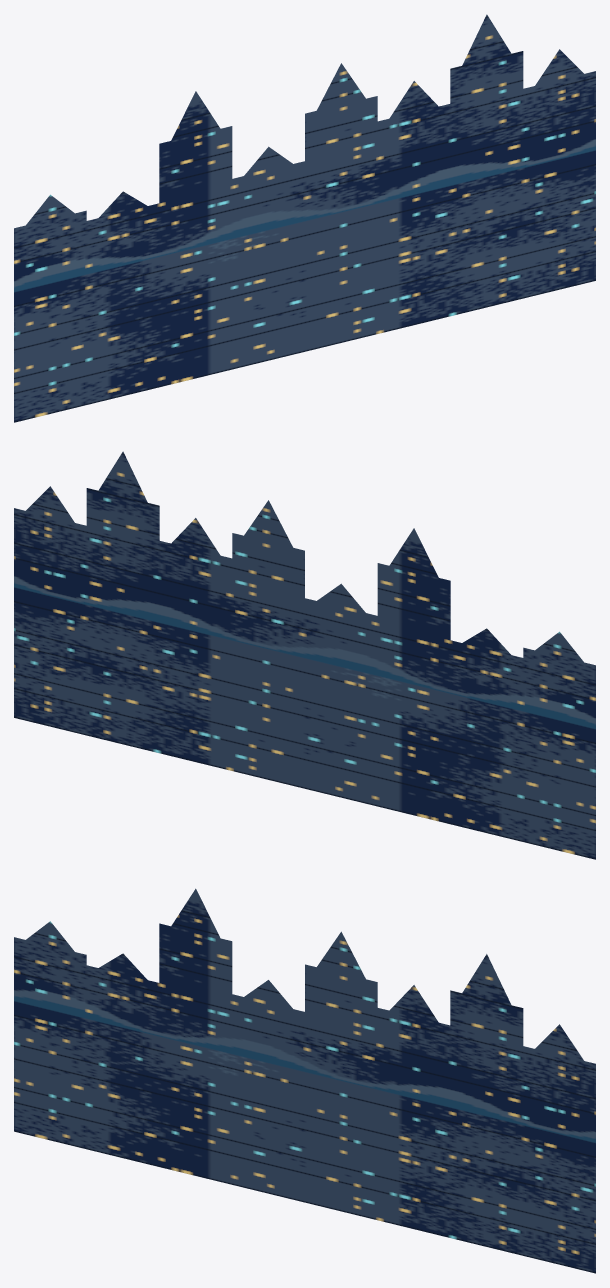
Rendered from cysky.needle__low.glb.
3 views of the same model, one above another, from view 1: azimuth 30°, elevation 25°; view 2: azimuth 150°, elevation 25°; view 3: azimuth 330°, elevation 25° (orthographic).
Parts seen in each view (by area): view 1: kit_card_skyline; view 2: kit_card_skyline; view 3: kit_card_skyline.
Boxes of the visible parts, x1,y1,x2,y2 form: kit_card_skyline: [14, 14, 595, 422]; kit_card_skyline: [14, 451, 595, 859]; kit_card_skyline: [14, 888, 595, 1273].
Size of the model in its own units: 56 by 26.97 by 0.
Materials: 1 (1 with a texture image).
